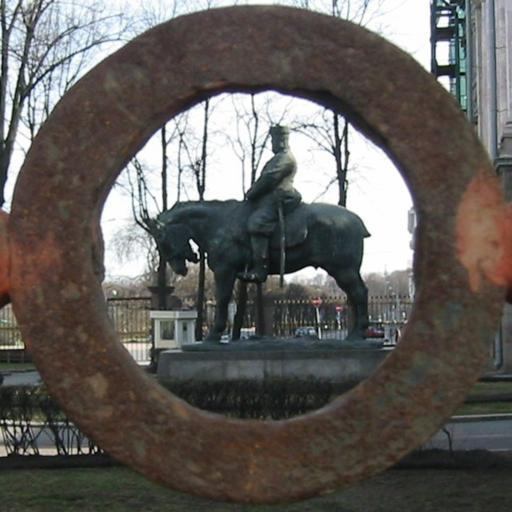horse: (137, 198, 373, 344)
